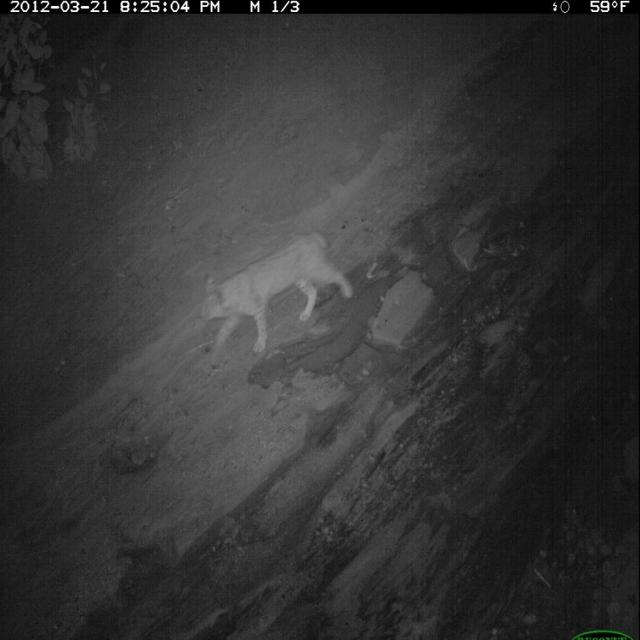bobcat: (196, 226, 356, 368)
